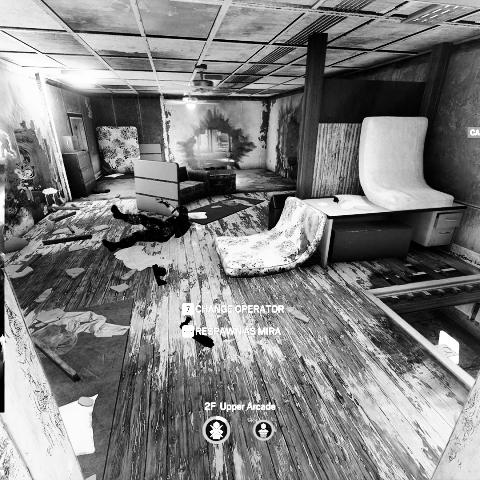Character: (103, 195, 192, 252)
Head: (176, 206, 188, 214)
